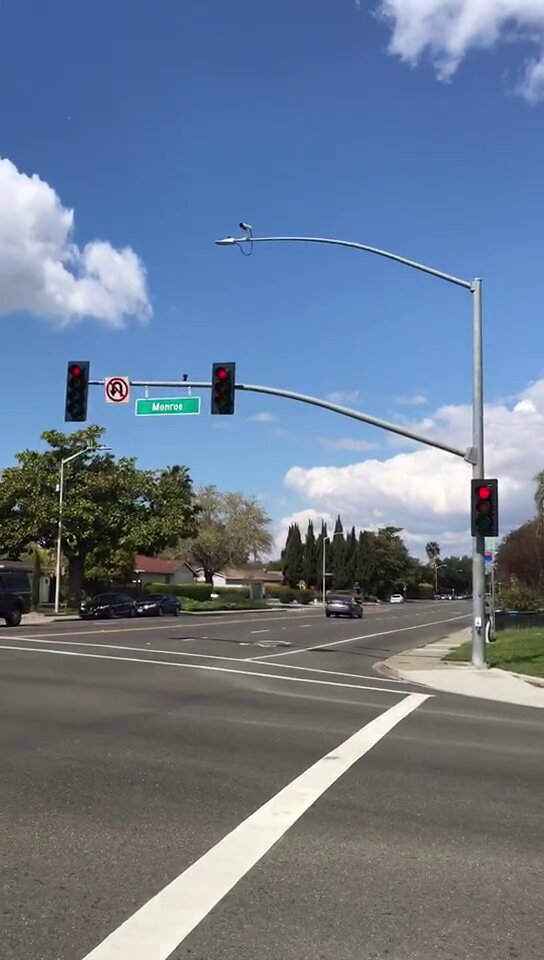red_light: (473, 481, 497, 535), (211, 362, 234, 412), (69, 360, 87, 417)
